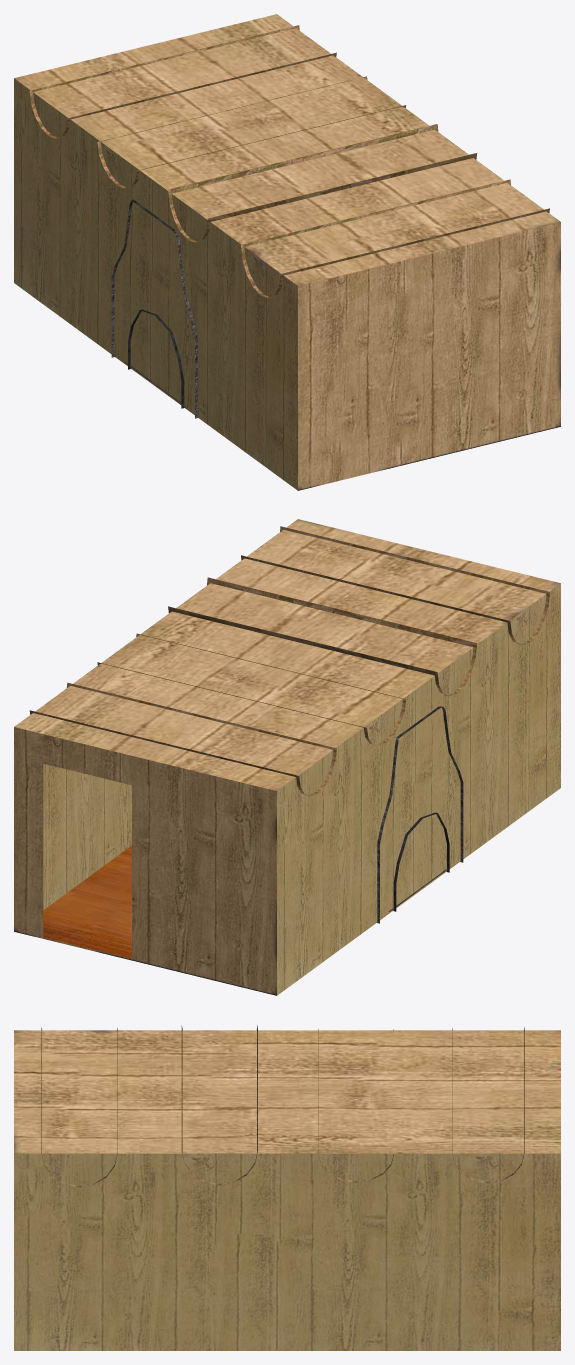
File: sm_hovel_interior_static.fbx
The picture shows the model from 3 angles, top to bottom: view 1: azimuth 30°, elevation 25°; view 2: azimuth 150°, elevation 25°; view 3: azimuth 270°, elevation 25°; orthographic projection. The views are drawn at different scales.
Visible parts, largest first — view 1: InteriorShape, Log3, Log4, Fireplace, Log1, Log2; view 2: InteriorShape, Log3, Log4, Fireplace, Log1, Log2; view 3: InteriorShape, Log3, Log4, Log1.
Part boxes in pixels (box(x1,y1,x2,y2)): InteriorShape: box(14, 14, 560, 490); Log3: box(168, 124, 476, 242); Log4: box(241, 179, 549, 298); Fireplace: box(111, 199, 197, 418); Log1: box(29, 25, 336, 138); Log2: box(97, 76, 406, 188); InteriorShape: box(14, 519, 560, 995); Log3: box(168, 577, 477, 696); Log4: box(241, 526, 549, 645); Fireplace: box(377, 706, 463, 923); Log1: box(29, 682, 336, 796); Log2: box(97, 633, 406, 745); InteriorShape: box(14, 1030, 560, 1350); Log3: box(181, 1025, 257, 1185); Log4: box(41, 1027, 117, 1187); Log1: box(452, 1027, 524, 1183).
Bounding box in the file's own units: 263 × 201 × 480.
Materials: 1 (1 with a texture image).
